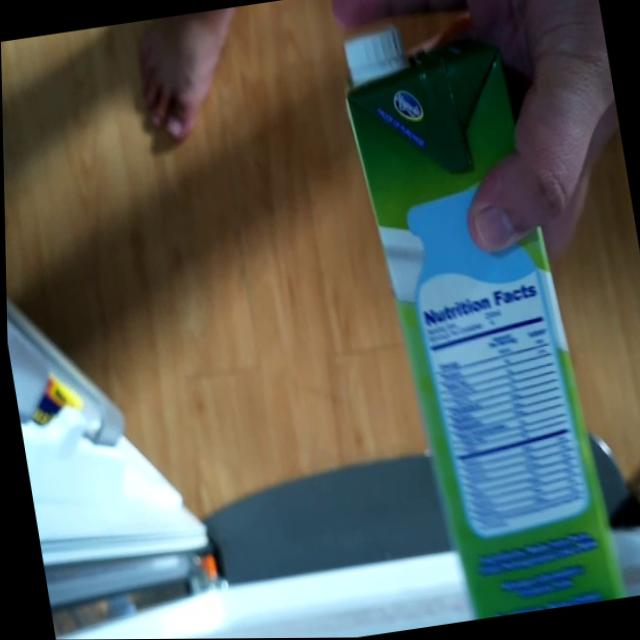milk: (331, 0, 630, 628)
